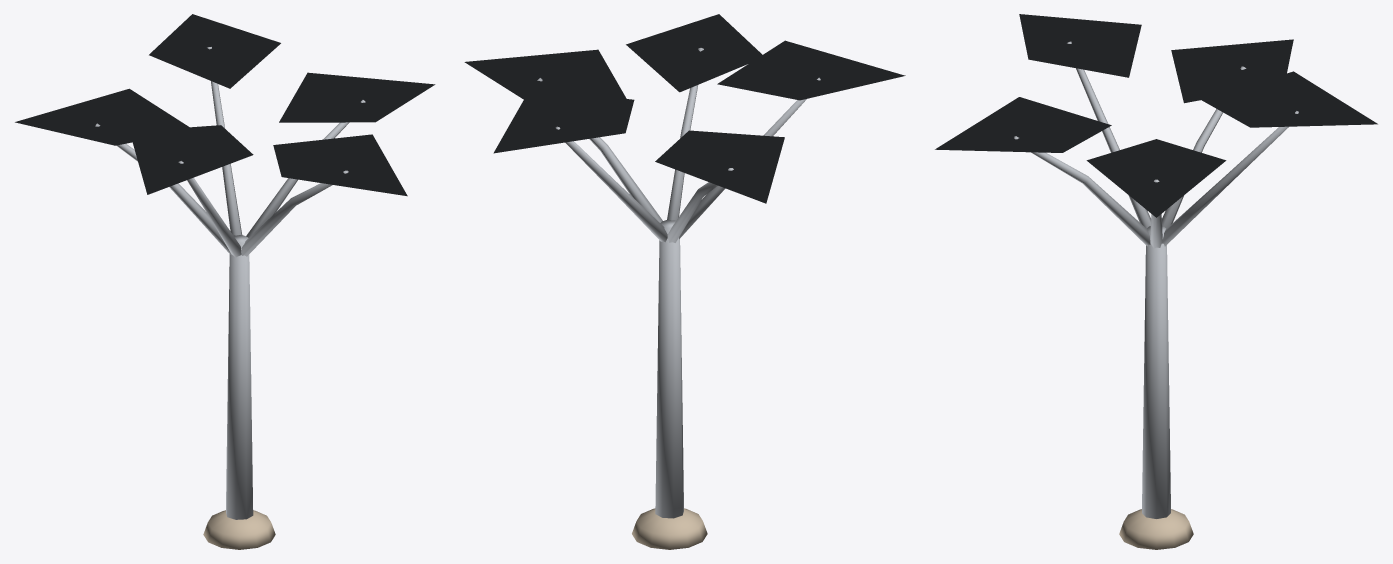
Rendered from city_solar_canopy.glb.
3 views of the same model, side by side, from view 1: azimuth 30°, elevation 25°; view 2: azimuth 150°, elevation 25°; view 3: azimuth 270°, elevation 25° (orthographic). The views are drawn at different scales.
Visible parts, largest first — view 1: CitySolarCanopy_Trunk, CitySolarCanopy_Panel0, CitySolarCanopy_Panel4, CitySolarCanopy_Panel3, CitySolarCanopy_Panel1, CitySolarCanopy_Panel2, CitySolarCanopy_Foot, CitySolarCanopy_Branch4, CitySolarCanopy_Branch1, CitySolarCanopy_Branch2, CitySolarCanopy_Branch3, CitySolarCanopy_Branch0; view 2: CitySolarCanopy_Trunk, CitySolarCanopy_Panel3, CitySolarCanopy_Panel1, CitySolarCanopy_Panel2, CitySolarCanopy_Panel4, CitySolarCanopy_Panel0, CitySolarCanopy_Foot, CitySolarCanopy_Branch1, CitySolarCanopy_Branch0, CitySolarCanopy_Branch4, CitySolarCanopy_Branch3, CitySolarCanopy_Branch2; view 3: CitySolarCanopy_Trunk, CitySolarCanopy_Panel1, CitySolarCanopy_Panel4, CitySolarCanopy_Panel3, CitySolarCanopy_Panel0, CitySolarCanopy_Panel2, CitySolarCanopy_Foot, CitySolarCanopy_Branch1, CitySolarCanopy_Branch4, CitySolarCanopy_Branch3, CitySolarCanopy_Branch2.
Part boxes in pixels (x1,y1,x2,y2): CitySolarCanopy_Trunk: (226,235,253,519); CitySolarCanopy_Panel0: (279,72,435,122); CitySolarCanopy_Panel4: (273,134,407,196); CitySolarCanopy_Panel3: (129,125,253,194); CitySolarCanopy_Panel1: (149,14,280,88); CitySolarCanopy_Panel2: (15,88,189,145); CitySolarCanopy_Foot: (203,510,275,549); CitySolarCanopy_Branch4: (241,170,348,256); CitySolarCanopy_Branch1: (207,47,242,235); CitySolarCanopy_Branch2: (95,123,230,254); CitySolarCanopy_Branch3: (178,161,241,257); CitySolarCanopy_Branch0: (246,100,365,237); CitySolarCanopy_Trunk: (655,219,683,518); CitySolarCanopy_Panel3: (717,40,905,100); CitySolarCanopy_Panel1: (493,88,634,153); CitySolarCanopy_Panel2: (655,130,784,203); CitySolarCanopy_Panel4: (626,14,762,92); CitySolarCanopy_Panel0: (464,49,626,99); CitySolarCanopy_Foot: (632,508,707,549); CitySolarCanopy_Branch1: (555,126,667,242); CitySolarCanopy_Branch0: (537,78,662,222); CitySolarCanopy_Branch4: (667,48,703,220); CitySolarCanopy_Branch3: (679,77,820,238); CitySolarCanopy_Branch2: (667,168,733,242); CitySolarCanopy_Trunk: (1142,226,1170,518); CitySolarCanopy_Panel1: (1201,71,1377,127); CitySolarCanopy_Panel4: (935,97,1111,152); CitySolarCanopy_Panel3: (1019,14,1141,77); CitySolarCanopy_Panel0: (1086,139,1226,217); CitySolarCanopy_Panel2: (1171,39,1293,103); CitySolarCanopy_Foot: (1119,509,1193,549); CitySolarCanopy_Branch1: (1162,111,1298,246); CitySolarCanopy_Branch4: (1014,136,1150,246); CitySolarCanopy_Branch3: (1067,41,1150,228); CitySolarCanopy_Branch2: (1162,66,1246,228).
Bounding box in the file's own units: 4.52 × 5.32 × 4.76.
